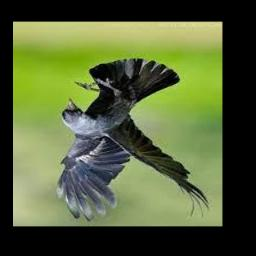Crow: (57, 59, 212, 222)
